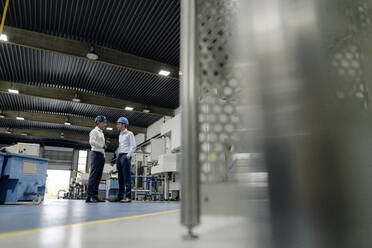person: (86, 116, 106, 201), (114, 117, 134, 202)
